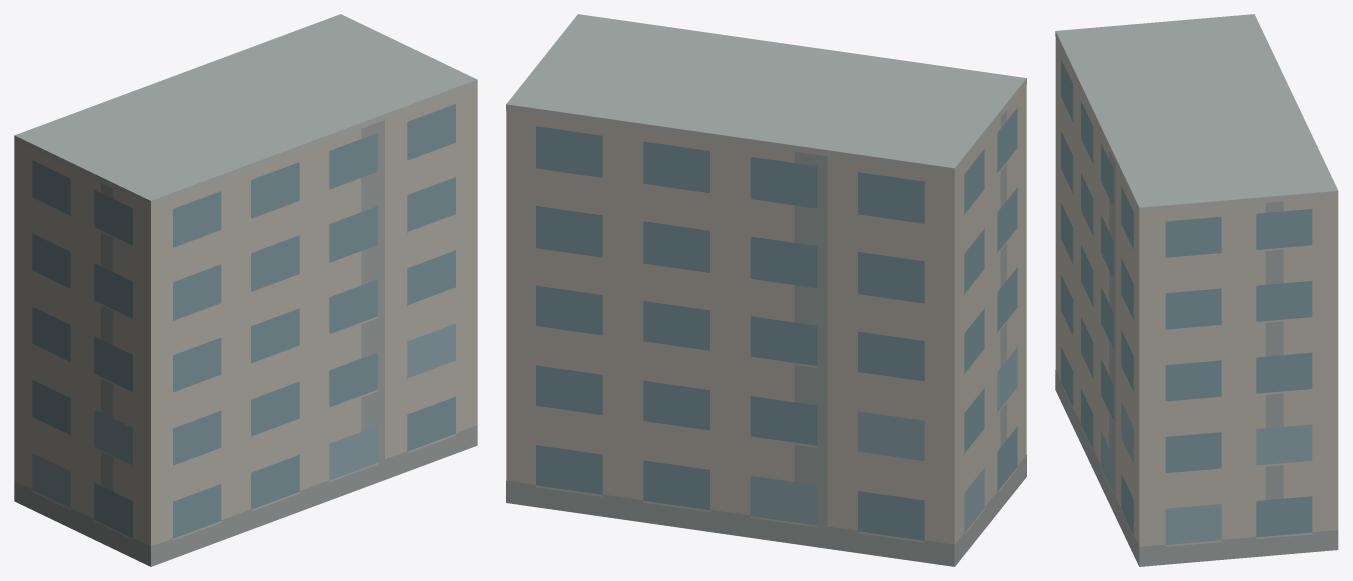
File: residential-1208ec9b-9a0c-43f3-b6f1-81d346fa5a5a.glb
3 renders of one model, left to right at view 1: azimuth 30°, elevation 25°; view 2: azimuth 150°, elevation 25°; view 3: azimuth 270°, elevation 25°, orthographic. The views are drawn at different scales.
Visible parts, largest first — view 1: residential-1208ec9b-9a0c-43f3-b6f1-81d346fa5a5a.tmp; view 2: residential-1208ec9b-9a0c-43f3-b6f1-81d346fa5a5a.tmp; view 3: residential-1208ec9b-9a0c-43f3-b6f1-81d346fa5a5a.tmp.
Boxes of the visible parts, bbox=[...] form: residential-1208ec9b-9a0c-43f3-b6f1-81d346fa5a5a.tmp: bbox=[14, 14, 477, 566]; residential-1208ec9b-9a0c-43f3-b6f1-81d346fa5a5a.tmp: bbox=[506, 14, 1026, 566]; residential-1208ec9b-9a0c-43f3-b6f1-81d346fa5a5a.tmp: bbox=[1055, 14, 1338, 566].
Bounding box in the file's own units: 17.66 × 15.25 × 10.9.
